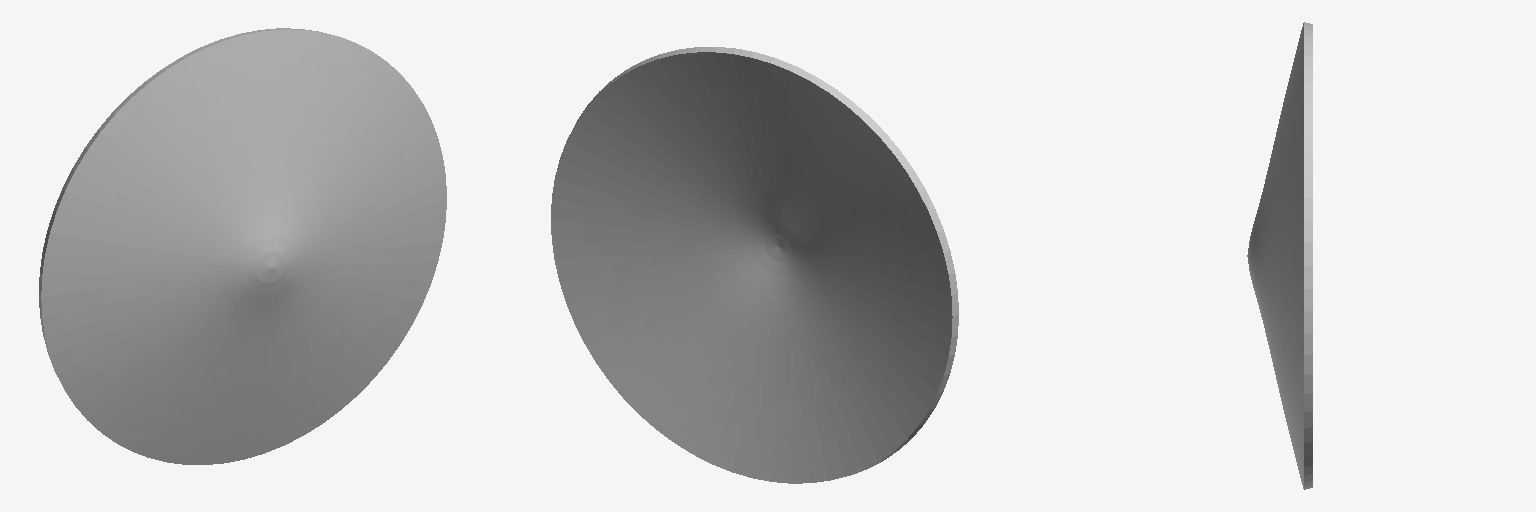
The model's file is shield.obj.
3 renders of one model, left to right at view 1: azimuth 30°, elevation 25°; view 2: azimuth 150°, elevation 25°; view 3: azimuth 270°, elevation 25°, orthographic.
Visible parts, largest first — view 1: shield; view 2: shield; view 3: shield.
Boxes of the visible parts, box(x1,y1,x2,y2) form: shield: box(39, 28, 446, 464); shield: box(551, 47, 958, 483); shield: box(1247, 22, 1312, 489).
Bounding box in the file's own units: 2.12 × 2.12 × 0.2959.